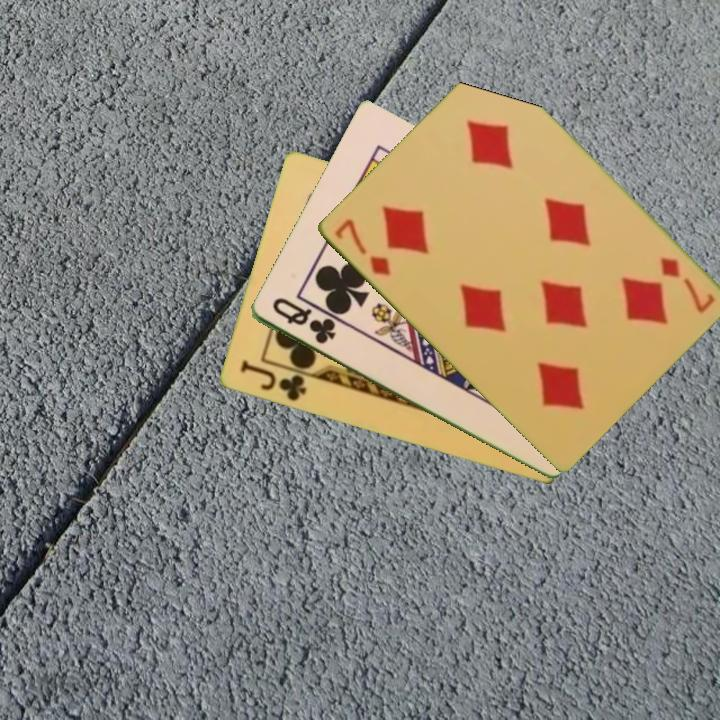7d: (330, 215, 393, 279), (655, 253, 717, 316)
Jc: (236, 357, 316, 405)
Qc: (268, 294, 339, 348)
